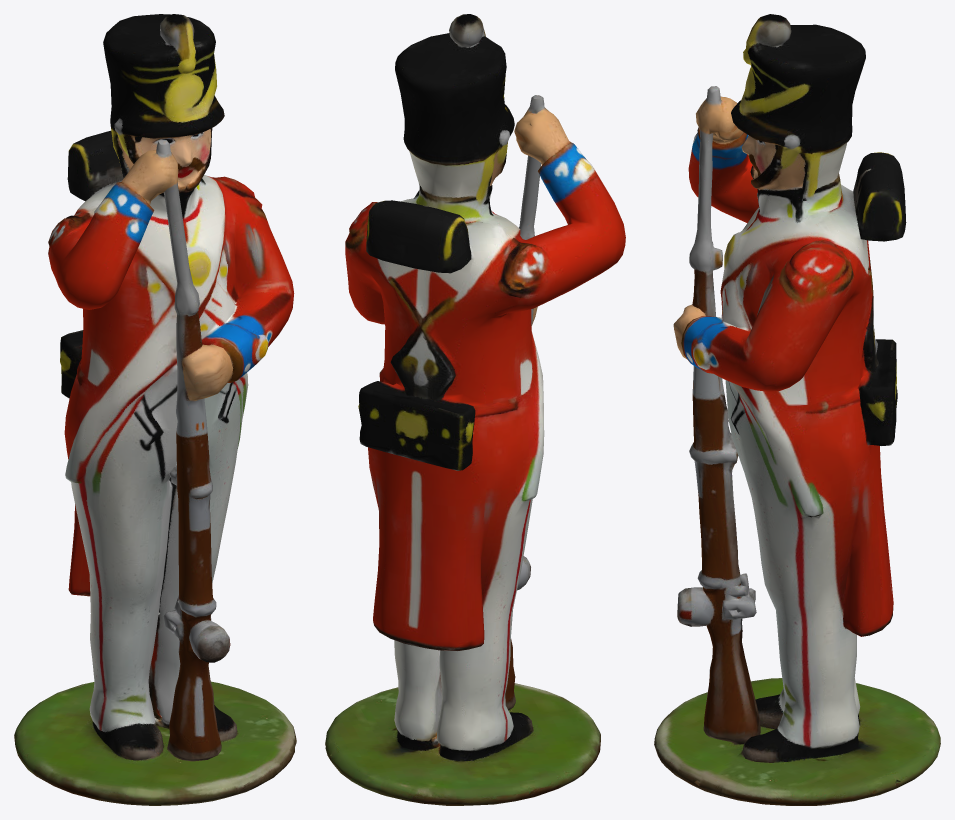
Rendered from inf_reload.glb.
3 renders of one model, left to right at view 1: azimuth 30°, elevation 25°; view 2: azimuth 150°, elevation 25°; view 3: azimuth 270°, elevation 25°, orthographic. The views are drawn at different scales.
Visible parts, largest first — view 1: world; view 2: world; view 3: world.
Boxes of the visible parts, x1,y1,x2,y2 form: world: (14, 14, 296, 805); world: (325, 14, 625, 805); world: (654, 14, 940, 805).
Bounding box in the file's own units: 0.353 × 0.9996 × 0.3513.
Materials: 1 (1 with a texture image).
